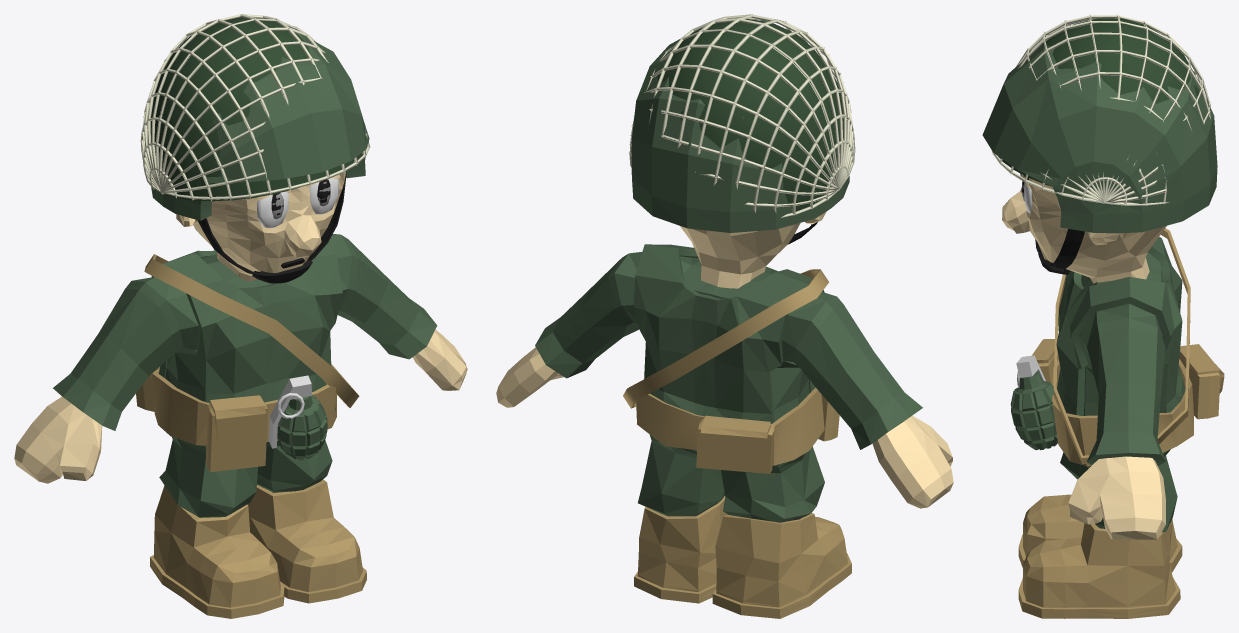
Rendered from us_soldier2.FBX.
The picture shows the model from 3 angles, left to right: view 1: azimuth 30°, elevation 25°; view 2: azimuth 150°, elevation 25°; view 3: azimuth 270°, elevation 25°; orthographic projection.
Parts seen in each view (by area): view 1: US_Soldier_Body, US_Soldier_Vest, Helmet_1, Helmet_2, Helmet_2_Net, US_Soldier_Head, US_Soldier_Pouch_Front, US_Soldier_Strap, Grenade, US_Soldier_Belt, Helmet_1_Strap, Helmet_1_Chin_Strap; view 2: US_Soldier_Body, US_Soldier_Vest, Helmet_2, Helmet_1, Helmet_2_Net, US_Soldier_Belt, US_Soldier_Head, US_Soldier_Pouch_Back_, US_Soldier_Strap; view 3: US_Soldier_Body, Helmet_1, US_Soldier_Vest, Helmet_2_Net, US_Soldier_Head, Helmet_2, Grenade, US_Soldier_Belt, US_Soldier_Strap, US_Soldier_Pouch_Back_, Helmet_1_Strap, US_Soldier_Pouch_Front.
Boxes of the visible parts, <box> form: US_Soldier_Body: <box>14,234,467,618</box>; US_Soldier_Vest: <box>151,239,342,410</box>; Helmet_1: <box>151,33,369,220</box>; Helmet_2: <box>150,17,358,201</box>; Helmet_2_Net: <box>140,14,370,200</box>; US_Soldier_Head: <box>176,167,346,281</box>; US_Soldier_Pouch_Front: <box>205,395,267,472</box>; US_Soldier_Strap: <box>144,254,359,407</box>; Grenade: <box>269,375,327,460</box>; US_Soldier_Belt: <box>151,369,336,445</box>; Helmet_1_Strap: <box>197,174,346,275</box>; Helmet_1_Chin_Strap: <box>252,260,312,283</box>; US_Soldier_Body: <box>496,252,953,618</box>; US_Soldier_Vest: <box>633,244,824,424</box>; Helmet_2: <box>657,19,846,211</box>; Helmet_1: <box>631,20,849,232</box>; Helmet_2_Net: <box>629,14,855,217</box>; US_Soldier_Belt: <box>636,387,824,465</box>; US_Soldier_Head: <box>680,211,826,288</box>; US_Soldier_Pouch_Back_: <box>696,415,774,473</box>; US_Soldier_Strap: <box>623,269,828,408</box>; US_Soldier_Body: <box>1018,252,1182,618</box>; Helmet_1: <box>982,40,1217,233</box>; US_Soldier_Vest: <box>1056,236,1185,415</box>; Helmet_2_Net: <box>991,14,1210,205</box>; US_Soldier_Head: <box>1002,173,1166,283</box>; Helmet_2: <box>998,18,1198,186</box>; Grenade: <box>1010,355,1057,450</box>; US_Soldier_Belt: <box>1052,359,1193,466</box>; US_Soldier_Strap: <box>1053,228,1190,464</box>; US_Soldier_Pouch_Back_: <box>1179,344,1224,419</box>; Helmet_1_Strap: <box>1050,229,1084,269</box>; US_Soldier_Pouch_Front: <box>1032,339,1058,384</box>.
Bounding box in the file's own units: 49.18 × 59.33 × 23.6.
